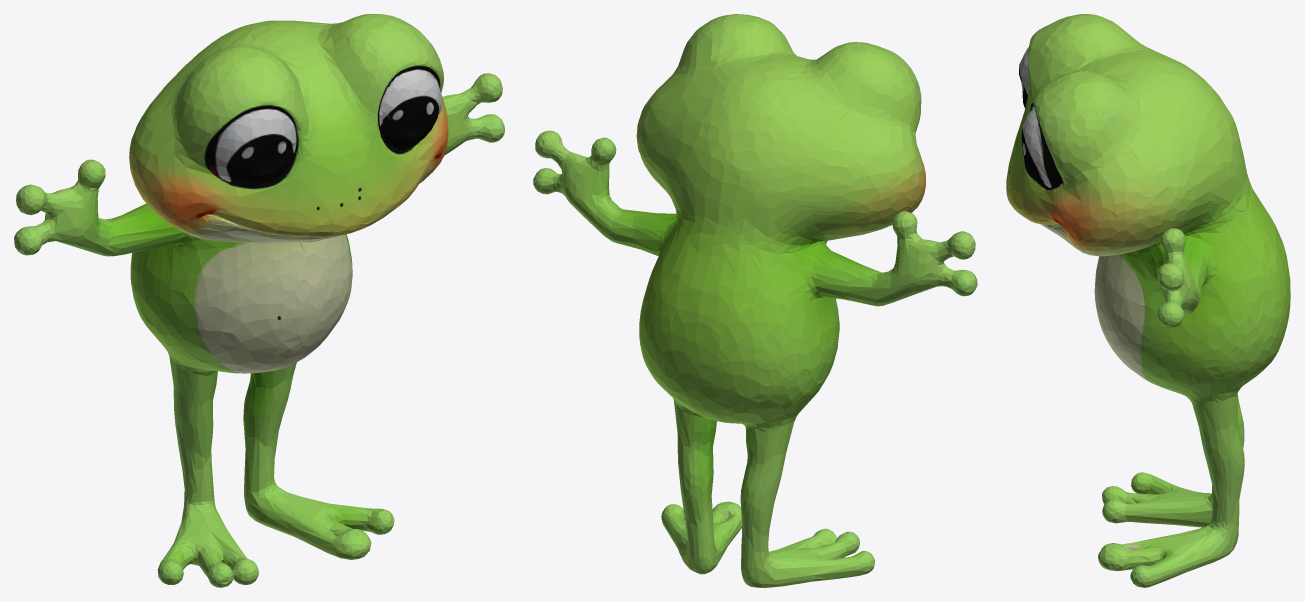
File: npc_frog.glb
3 renders of one model, left to right at view 1: azimuth 30°, elevation 25°; view 2: azimuth 150°, elevation 25°; view 3: azimuth 270°, elevation 25°, orthographic. The views are drawn at different scales.
Visible parts, largest first — view 1: textured_mesh.obj; view 2: textured_mesh.obj; view 3: textured_mesh.obj.
Boxes of the visible parts, left/top/right/bottom form: textured_mesh.obj: left=14, top=14, right=504, bottom=587; textured_mesh.obj: left=533, top=14, right=977, bottom=587; textured_mesh.obj: left=1006, top=14, right=1290, bottom=587.
Size of the model in its own units: 1.85 by 1.99 by 1.04.
1 material, 1 textured.
